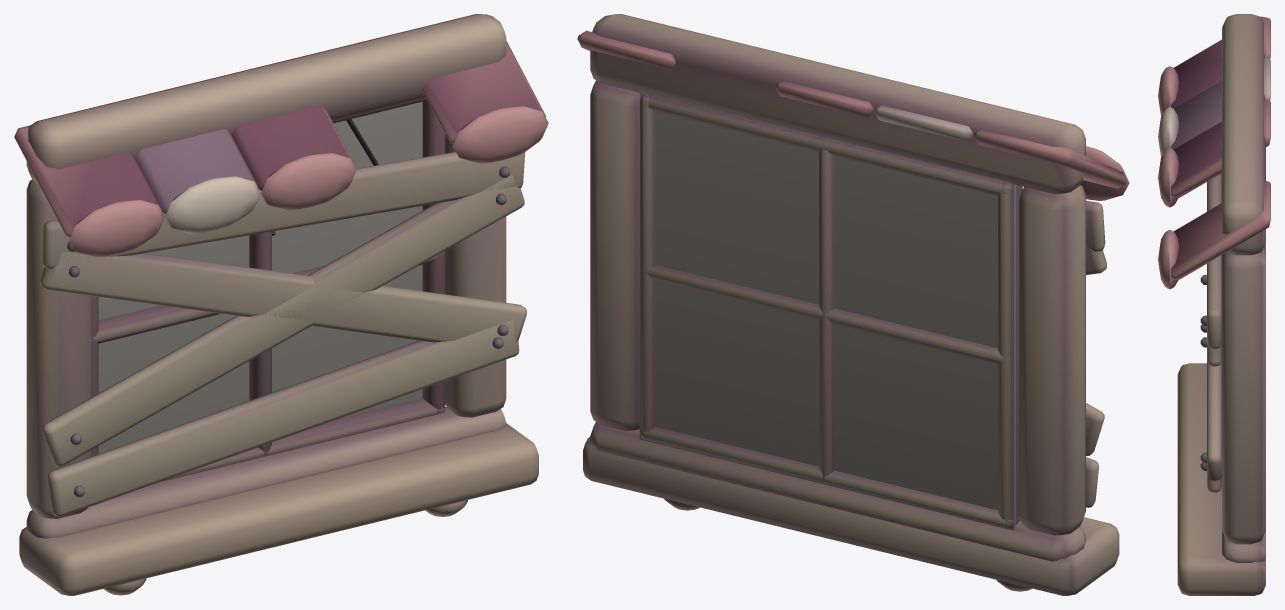
File: window_broken.glb
3 renders of one model, left to right at view 1: azimuth 30°, elevation 25°; view 2: azimuth 150°, elevation 25°; view 3: azimuth 270°, elevation 25°, orthographic. The views are drawn at different scales.
Parts seen in each view (by area): view 1: window_broken, window_broken_glass; view 2: window_broken, window_broken_glass; view 3: window_broken.
Boxes of the visible parts, x1,y1,x2,y2 form: window_broken: (14,14,548,595); window_broken_glass: (98,101,422,453); window_broken: (577,14,1129,595); window_broken_glass: (639,91,1015,530); window_broken: (1158,14,1270,595).
Size of the model in its own units: 1.65 by 1.53 by 0.3826.
